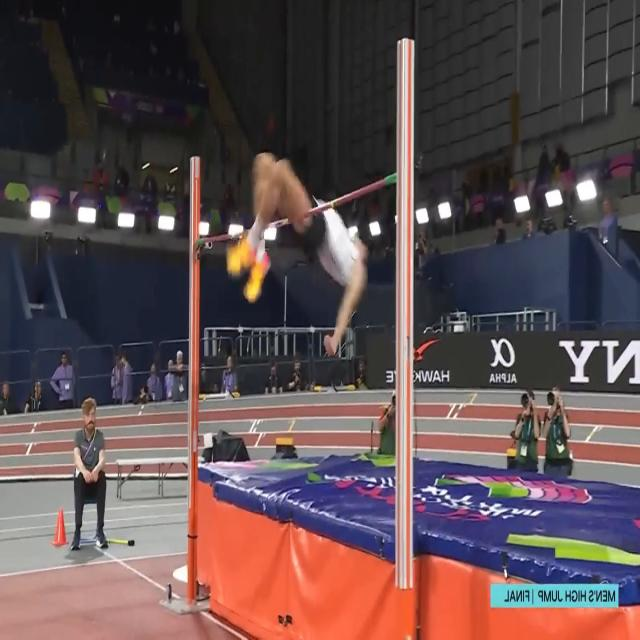jump: (228, 150, 369, 356)
